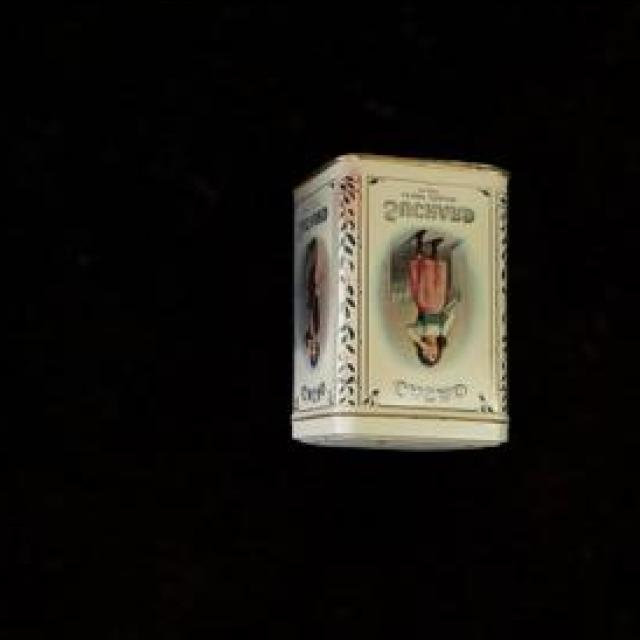logam: (295, 158, 513, 452)
